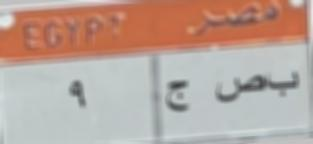9: (67, 78, 88, 114)
baa: (268, 70, 303, 99)
jeem: (163, 77, 192, 119)
saad: (212, 72, 265, 107)
